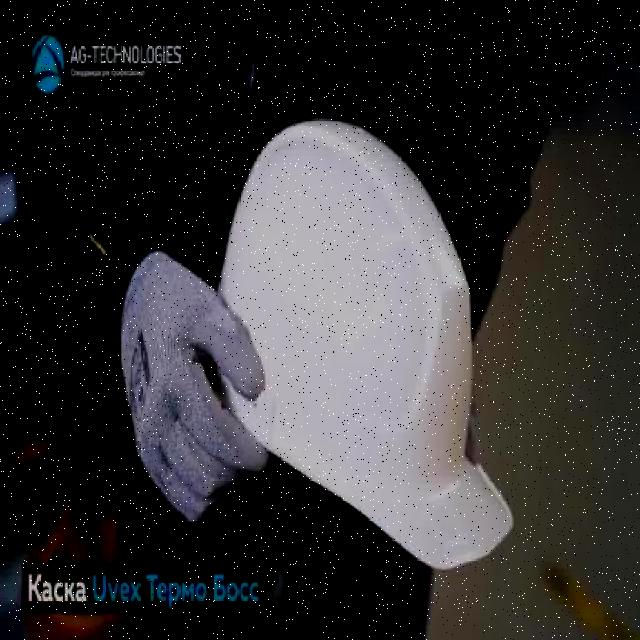Gloves: (122, 244, 270, 530)
Helmet: (209, 114, 514, 576)
